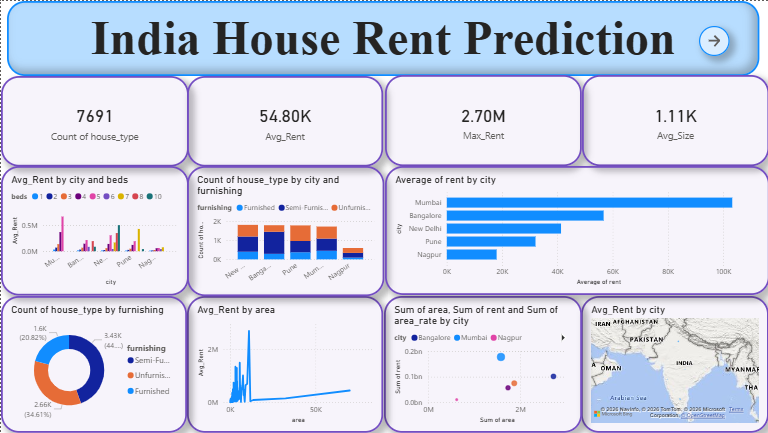

What the dashboard file says about the page in this screenshot:
{"tool":"powerbi","page":{"name":"Page 1","canvas":[1280,720],"ordinal":0},"visuals":[{"type":"textbox","box":[10.5,0,1253.7,124.7],"z":0},{"type":"card","fields":{"Values":["CountNonNull(data.house_type)"]},"box":[0,124.7,312.5,151],"z":1000},{"type":"card","fields":{"Values":["data.Avg_Rent"]},"box":[310.8,124.7,326.6,151],"z":2000},{"type":"card","fields":{"Values":["data.Max_Rent"]},"box":[640,124,328,152],"z":3000},{"type":"card","fields":{"Values":["data.Avg_Size"]},"box":[968,124,312,152],"z":4000},{"type":"clusteredColumnChart","fields":{"Category":["data.city"],"Series":["data.beds"],"Y":["data.Avg_Rent"]},"box":[0,275.7,312.5,216],"z":5000},{"type":"actionButton","box":[1164.1,42.1,50.9,50],"z":6000},{"type":"filledMap","fields":{"Category":["data.locality","data.city"]},"box":[966.7,491.7,313.3,228.3],"z":7000},{"type":"scatterChart","fields":{"Series":["data.city"],"Size":["Sum(data.area_rate)"],"X":["Sum(data.area)"],"Y":["Sum(data.rent)"]},"box":[638.3,491.7,330,228.3],"z":8000},{"type":"lineChart","fields":{"Category":["data.area"],"Y":["data.Avg_Rent"]},"box":[310,491.7,326.7,228.3],"z":9000},{"type":"columnChart","fields":{"Category":["data.city"],"Series":["data.furnishing"],"Y":["CountNonNull(data.house_type)"]},"box":[310.2,275.1,329.3,216.6],"z":10000},{"type":"barChart","fields":{"Category":["data.city"],"Y":["Avg(data.rent)"]},"box":[639.5,275.1,641,215.1],"z":11000},{"type":"donutChart","fields":{"Category":["data.furnishing"],"Y":["CountNonNull(data.house_type)"]},"box":[0,492,310,228],"z":12000}]}

Visuals, with their boxes in screenshot pixels (x1, y1, x2, y2), scaled from the page's 1280x720 canvas onto the 768x433 screenshot:
textbox: x1=6 y1=0 x2=759 y2=75
card - CountNonNull(data.house_type): x1=0 y1=75 x2=188 y2=166
card - data.Avg_Rent: x1=186 y1=75 x2=382 y2=166
card - data.Max_Rent: x1=384 y1=75 x2=581 y2=166
card - data.Avg_Size: x1=581 y1=75 x2=767 y2=166
clusteredColumnChart - data.city x data.beds: x1=0 y1=166 x2=188 y2=296
actionButton: x1=698 y1=25 x2=729 y2=55
filledMap - data.locality x data.city: x1=580 y1=296 x2=767 y2=432
scatterChart - data.city x Sum(data.area_rate): x1=383 y1=296 x2=581 y2=432
lineChart - data.area x data.Avg_Rent: x1=186 y1=296 x2=382 y2=432
columnChart - data.city x data.furnishing: x1=186 y1=165 x2=384 y2=296
barChart - data.city x Avg(data.rent): x1=384 y1=165 x2=767 y2=295
donutChart - data.furnishing x CountNonNull(data.house_type): x1=0 y1=296 x2=186 y2=432
